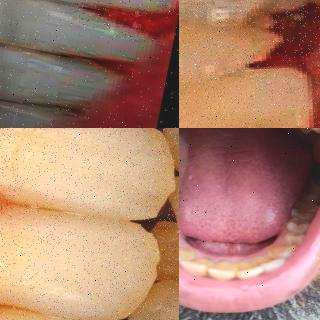Gum Swelling: (89, 0, 179, 46)
calculus: (254, 252, 283, 268), (215, 260, 235, 280), (235, 260, 257, 277), (190, 255, 212, 272), (268, 245, 292, 259), (179, 246, 194, 262), (179, 237, 185, 249)
maligned: (179, 10, 289, 92), (140, 216, 179, 294)
